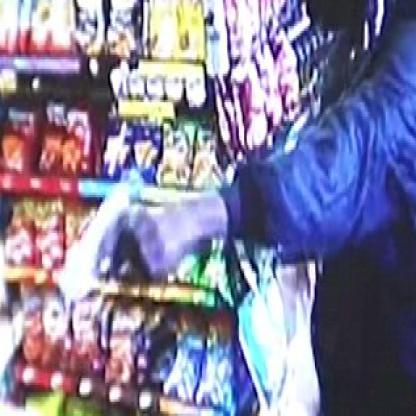gun: (57, 169, 174, 311)
